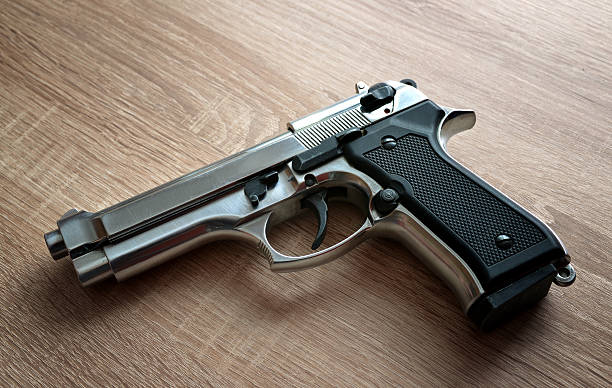gun: (41, 73, 576, 334)
